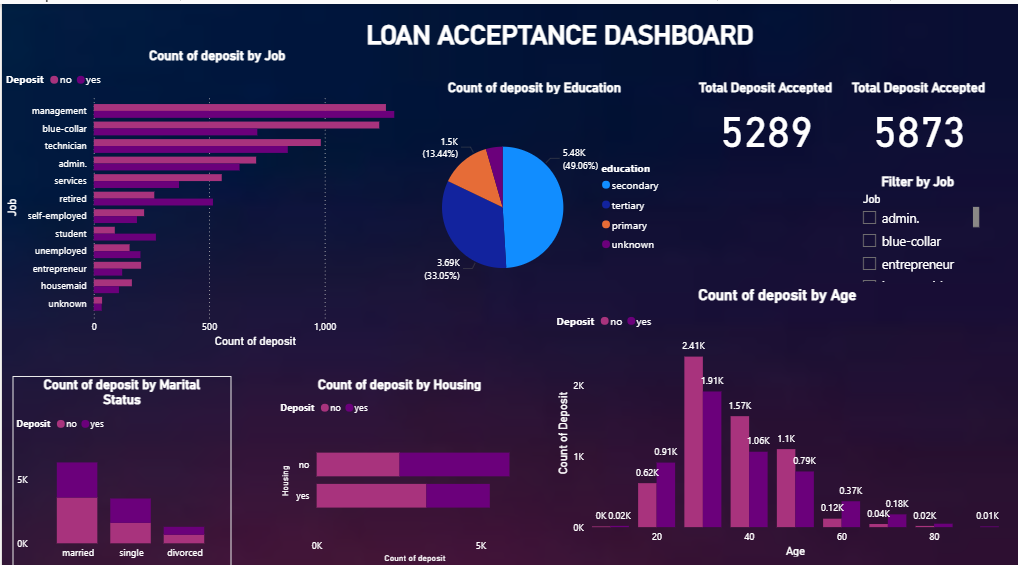

The dashboard page shown, as its layout file describes it:
{"tool":"powerbi","page":{"name":"Page 1","canvas":[1299,720],"ordinal":0},"visuals":[{"type":"clusteredBarChart","title":"Count of deposit by Job","fields":{"Category":["Bank Marketing Dataset.job"],"Y":["CountNonNull(Bank Marketing Dataset.deposit)"],"Series":["Bank Marketing Dataset.deposit"]},"box":[0,55.6,550.4,387.4],"z":0},{"type":"columnChart","title":"Count of deposit by Marital Status","fields":{"Category":["Bank Marketing Dataset.marital"],"Y":["CountNonNull(Bank Marketing Dataset.deposit)"],"Series":["Bank Marketing Dataset.deposit"]},"box":[13.4,475.6,280,243.6],"z":1000},{"type":"clusteredColumnChart","title":"Count of deposit by Age ","fields":{"Category":["Bank Marketing Dataset.age (bins)"],"Y":["CountNonNull(Bank Marketing Dataset.deposit)"],"Series":["Bank Marketing Dataset.deposit"]},"box":[703.8,360.6,575.3,351],"z":2000},{"type":"pieChart","title":"Count of deposit by Education","fields":{"Category":["Bank Marketing Dataset.education"],"Y":["CountNonNull(Bank Marketing Dataset.deposit)"]},"box":[508.2,95.9,345.2,306.9],"z":3000},{"type":"barChart","title":"Count of deposit by Housing","fields":{"Series":["Bank Marketing Dataset.deposit"],"Category":["Bank Marketing Dataset.housing"],"Y":["CountNonNull(Bank Marketing Dataset.deposit)"]},"box":[351,475.6,314.5,243.6],"z":4000},{"type":"card","title":"Total Deposit Accepted","fields":{"Values":["CountNonNull(Bank Marketing Dataset.deposit)"]},"box":[872.6,95.9,207.1,101.6],"z":5000},{"type":"card","title":"Total Deposit Accepted","fields":{"Values":["CountNonNull(Bank Marketing Dataset.deposit)"]},"box":[1064.4,95.9,214.8,101.6],"z":6000},{"type":"slicer","title":"Filter by Job","fields":{"Values":["Bank Marketing Dataset.job"]},"box":[1087.4,216.7,166.9,143.8],"z":7000},{"type":"textbox","title":"LOAN ACCEPTANCE DASHBOARD DASHBOARDDASHBOARD","box":[450.7,19.2,525.5,36.4],"z":8000}]}

Visuals, with their boxes in screenshot pixels (x1, y1, x2, y2), scaled from the page's 1299x720 canvas onto the 1018x565 screenshot:
"Count of deposit by Job" clusteredBarChart: [0,44,431,348]
"Count of deposit by Marital Status" columnChart: [11,373,230,564]
"Count of deposit by Age " clusteredColumnChart: [552,283,1002,558]
"Count of deposit by Education" pieChart: [398,75,669,316]
"Count of deposit by Housing" barChart: [275,373,522,564]
"Total Deposit Accepted" card: [684,75,846,155]
"Total Deposit Accepted" card: [834,75,1002,155]
"Filter by Job" slicer: [852,170,983,283]
"LOAN ACCEPTANCE DASHBOARD DASHBOARDDASHBOARD" textbox: [353,15,765,44]
